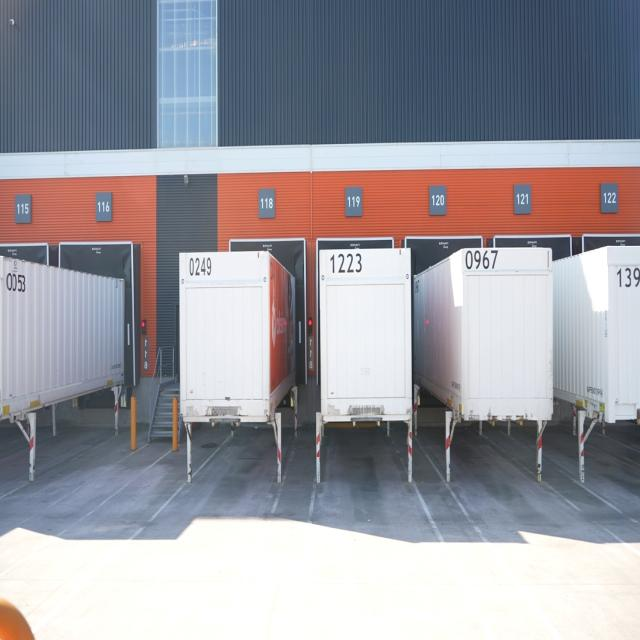Code: (463, 245, 504, 275), (326, 249, 369, 275), (1, 264, 28, 293), (181, 256, 214, 278)
